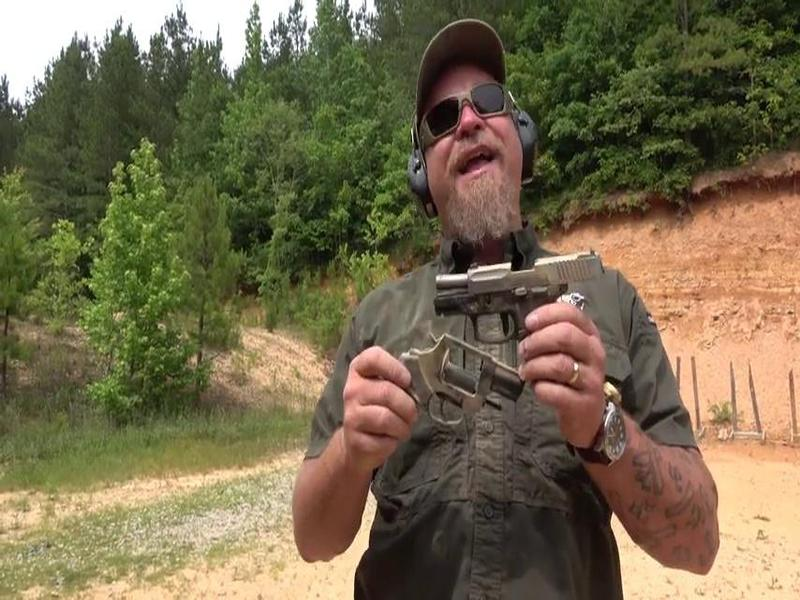Pistola: (429, 240, 609, 352)
Revolver: (377, 324, 535, 444)
